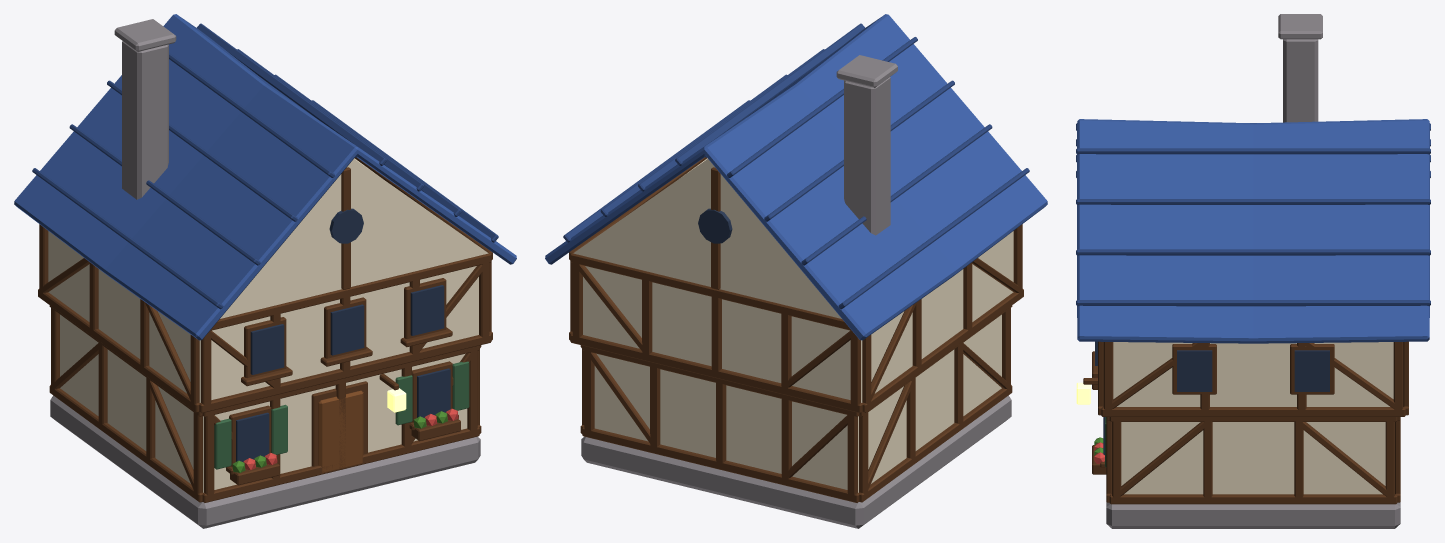
Rendered from house_north_1.glb.
3 views of the same model, side by side, from view 1: azimuth 30°, elevation 25°; view 2: azimuth 150°, elevation 25°; view 3: azimuth 270°, elevation 25° (orthographic). The views are drawn at different scales.
Parts seen in each view (by area): view 1: roof, floor2, gable-1, floor1, plinth, chimney, door, f2_front_sill, f2_front_plate, f1_front_sill, tiles3_1, f2_left_sill (+43 smaller); view 2: roof, floor1, floor2, gable1, plinth, chimney, f2_back_sill, f1_back_sill, f2_back_plate, tiles3_1, f2_left_sill, f1_left_sill (+36 smaller); view 3: roof, floor1, floor2, plinth, f1_right_sill, chimney, f2_right_sill, tiles1_1, tiles3_1, tiles0_1, tiles2_1, ws_-0.5_glass (+17 smaller).
Part boxes in pixels (box(x1,y1,x2,y2)): roof: box(14, 14, 516, 340); floor2: box(48, 158, 478, 402); gable-1: box(220, 159, 488, 318); floor1: box(60, 314, 467, 492); plinth: box(50, 395, 480, 528); chimney: box(122, 41, 168, 199); door: box(318, 390, 363, 472); f2_front_sill: box(199, 333, 491, 413); f2_front_plate: box(211, 252, 491, 330); f1_front_sill: box(202, 427, 479, 502); tiles3_1: box(197, 23, 386, 165); f2_left_sill: box(38, 289, 199, 412); roof: box(545, 14, 1047, 340); floor1: box(594, 314, 1001, 492); floor2: box(583, 158, 1013, 402); gable1: box(573, 159, 841, 318); plinth: box(581, 395, 1011, 528); chimney: box(844, 77, 890, 235); f2_back_sill: box(570, 333, 862, 413); f1_back_sill: box(582, 427, 859, 502); f2_back_plate: box(570, 252, 850, 330); tiles3_1: box(675, 23, 864, 165); f2_left_sill: box(862, 289, 1023, 412); f1_left_sill: box(859, 385, 1012, 502); roof: box(1077, 119, 1429, 343); floor1: box(1121, 422, 1385, 494); floor2: box(1113, 342, 1393, 406); plinth: box(1106, 502, 1400, 528); f1_right_sill: box(1109, 494, 1397, 504); chimney: box(1283, 39, 1318, 122); f2_right_sill: box(1101, 407, 1405, 416); tiles1_1: box(1076, 249, 1430, 255); tiles3_1: box(1076, 148, 1430, 154); tiles0_1: box(1076, 300, 1430, 306); tiles2_1: box(1076, 199, 1430, 204); ws_-0.5_glass: box(1177, 350, 1212, 391).
Bounding box in the file's own units: 3.01 × 3.73 × 3.01.
